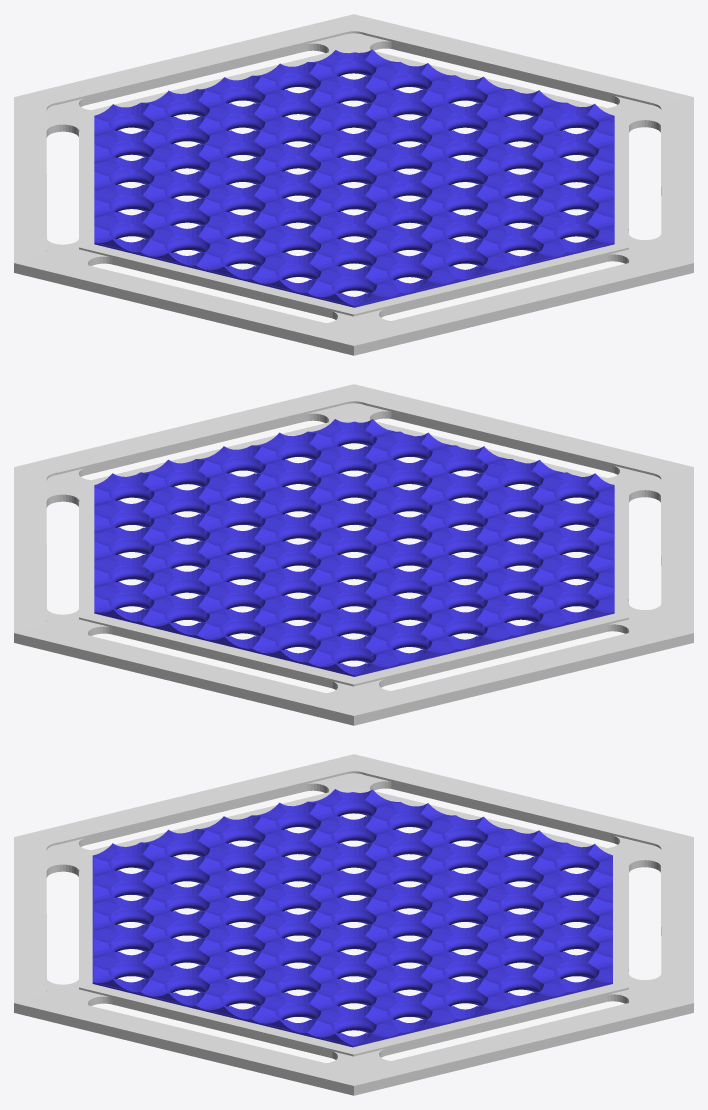
Rendered from Board.glb.
The picture shows the model from 3 angles, top to bottom: view 1: azimuth 30°, elevation 25°; view 2: azimuth 150°, elevation 25°; view 3: azimuth 270°, elevation 25°; orthographic projection.
Visible parts, largest first — view 1: holes, guard; view 2: holes, guard; view 3: holes, guard.
Part boxes in pixels (x1,y1,x2,y2): holes: (94, 49, 614, 307); guard: (14, 14, 693, 355); holes: (94, 419, 614, 676); guard: (14, 384, 693, 725); holes: (92, 789, 612, 1047); guard: (14, 754, 693, 1095).
Size of the model in its own units: 0.2459 by 0.00636 by 0.2129.
